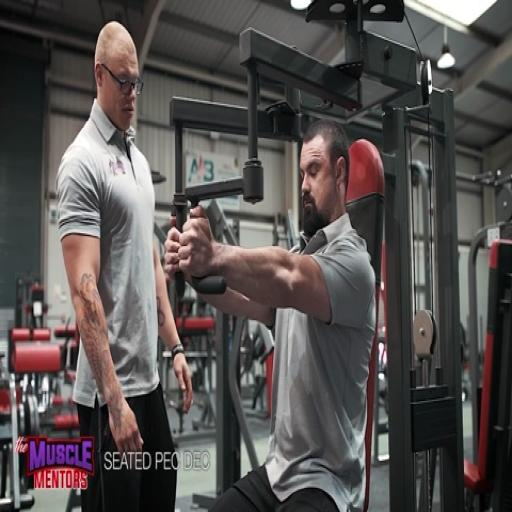exercise: (161, 116, 380, 510), (54, 18, 196, 510)
